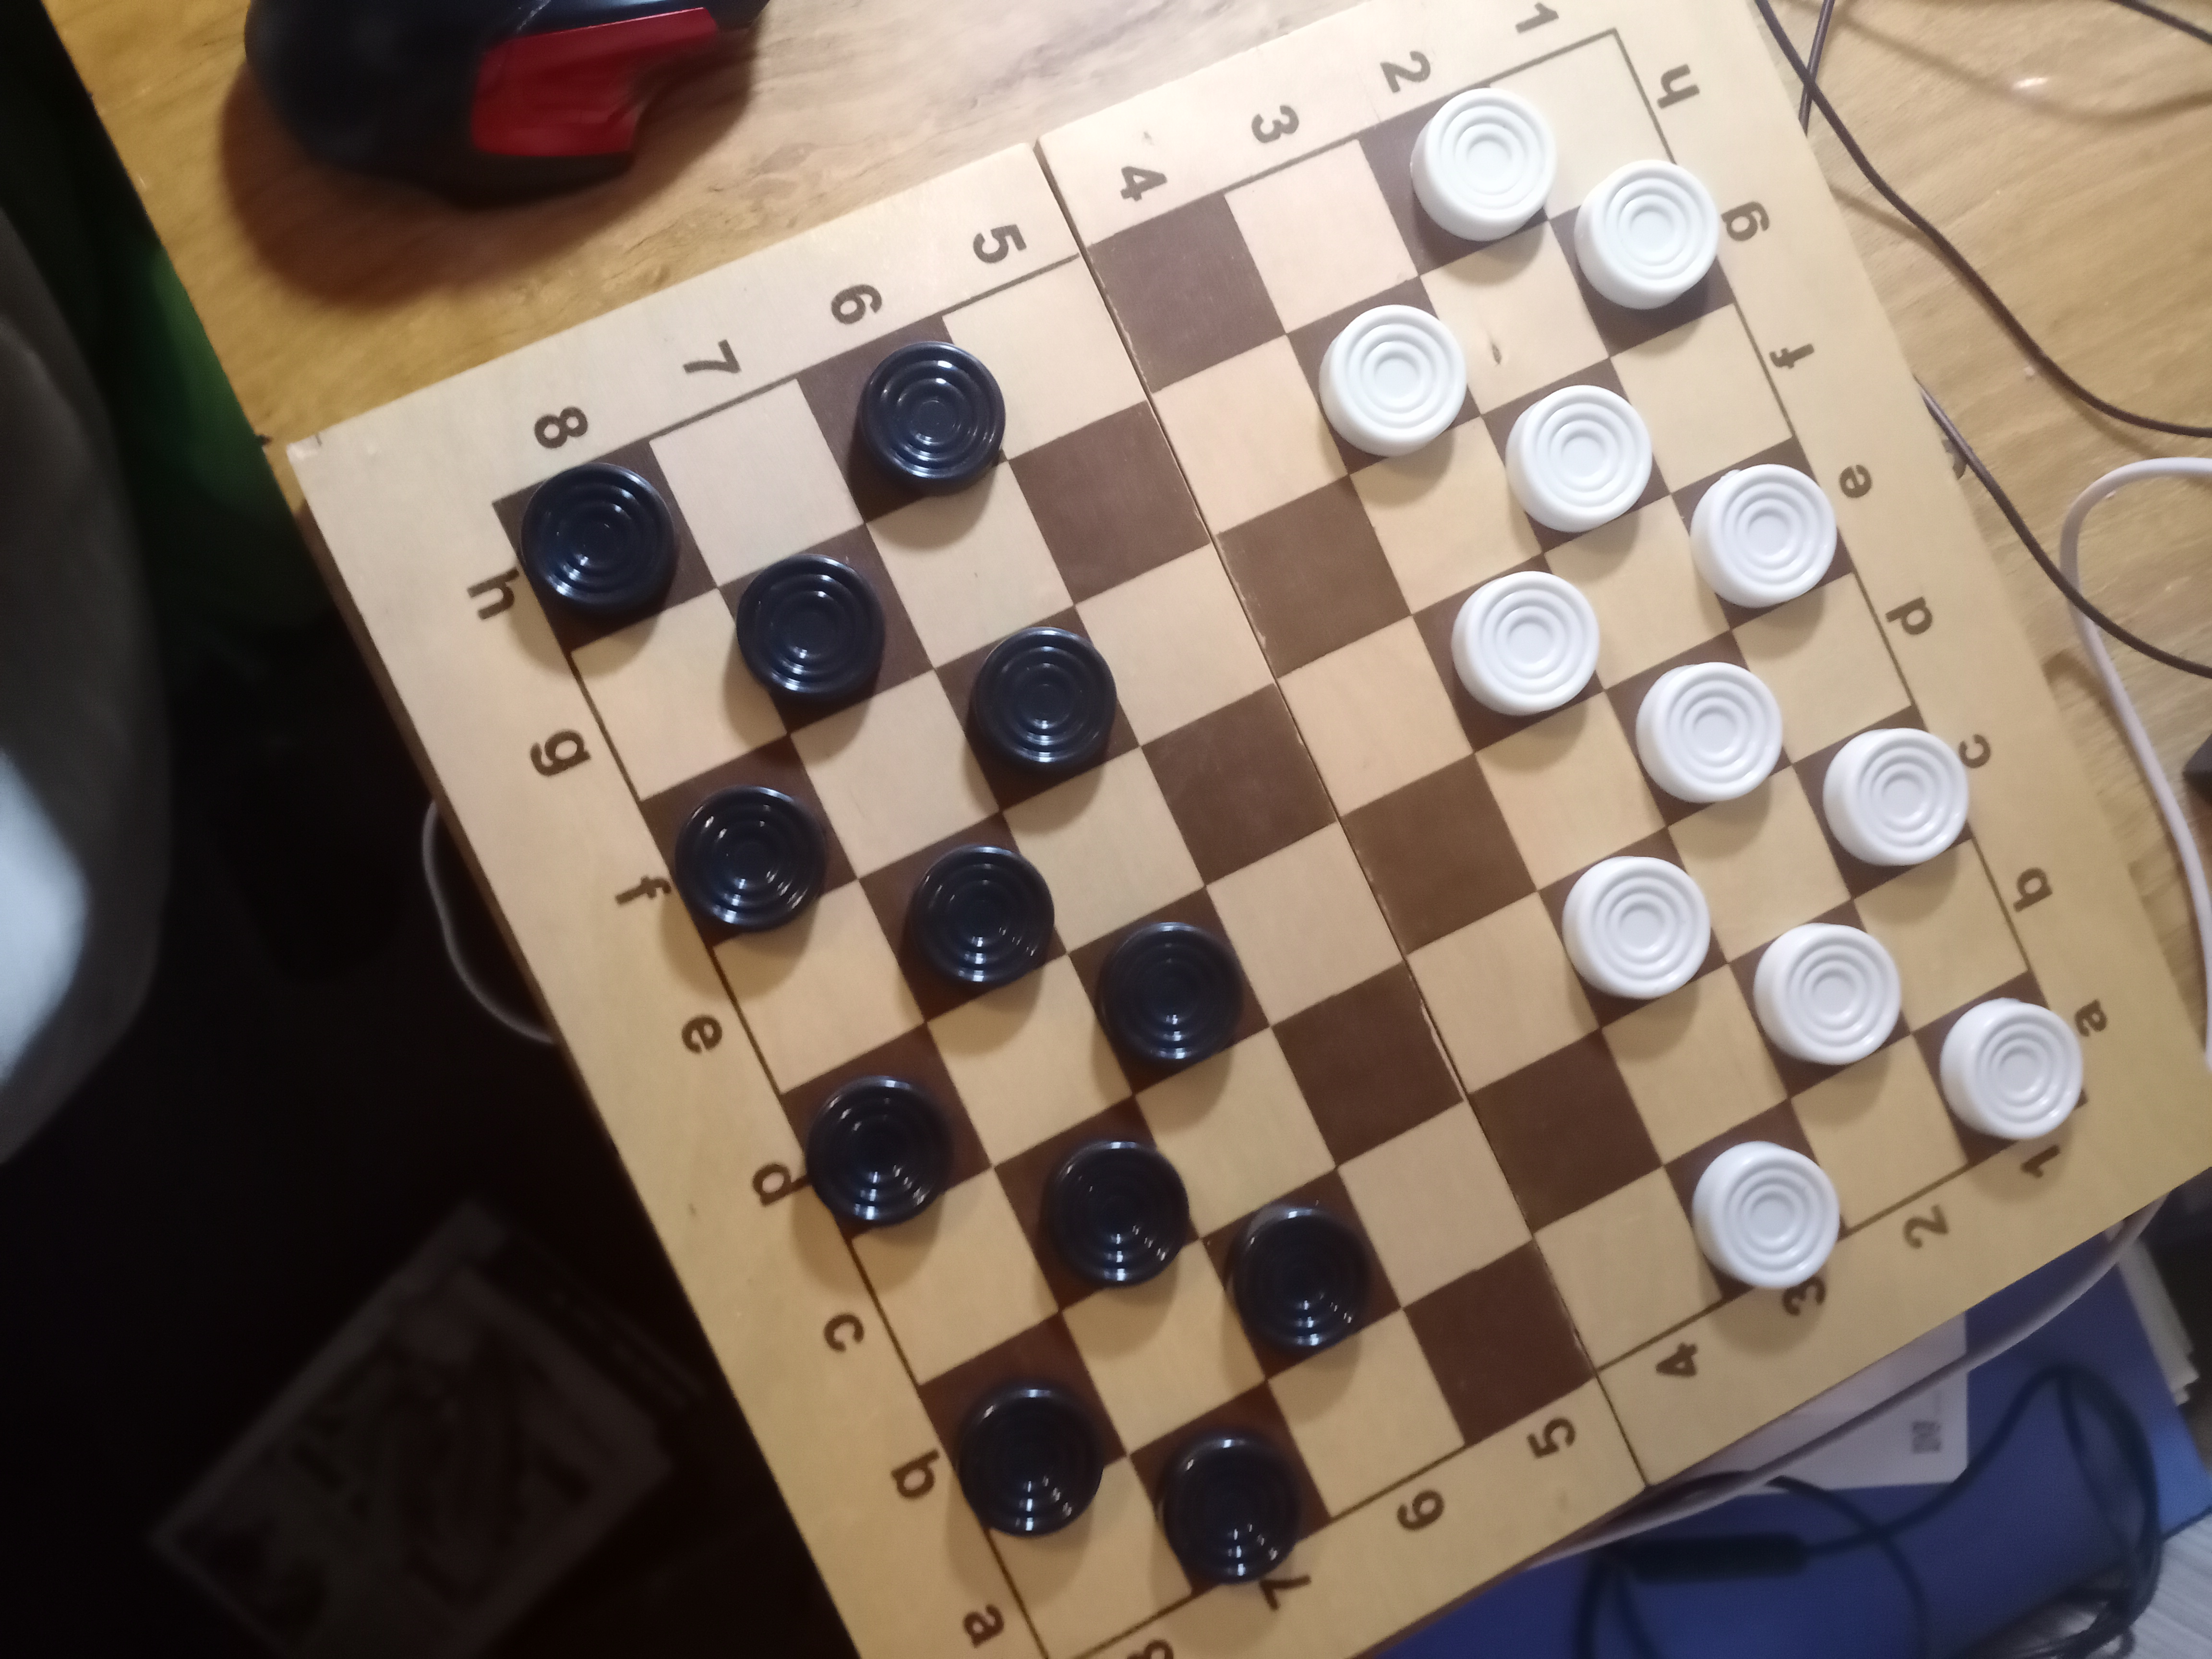White_Draught: (1411, 552, 1606, 753), (1536, 826, 1730, 1028), (1287, 275, 1480, 476), (1359, 84, 1557, 275), (1480, 357, 1672, 554), (1728, 897, 1912, 1101), (1548, 159, 1735, 357), (1663, 1101, 1848, 1302), (1606, 629, 1792, 826), (1670, 437, 1855, 629), (1792, 704, 1970, 897), (1912, 971, 2085, 1162)
